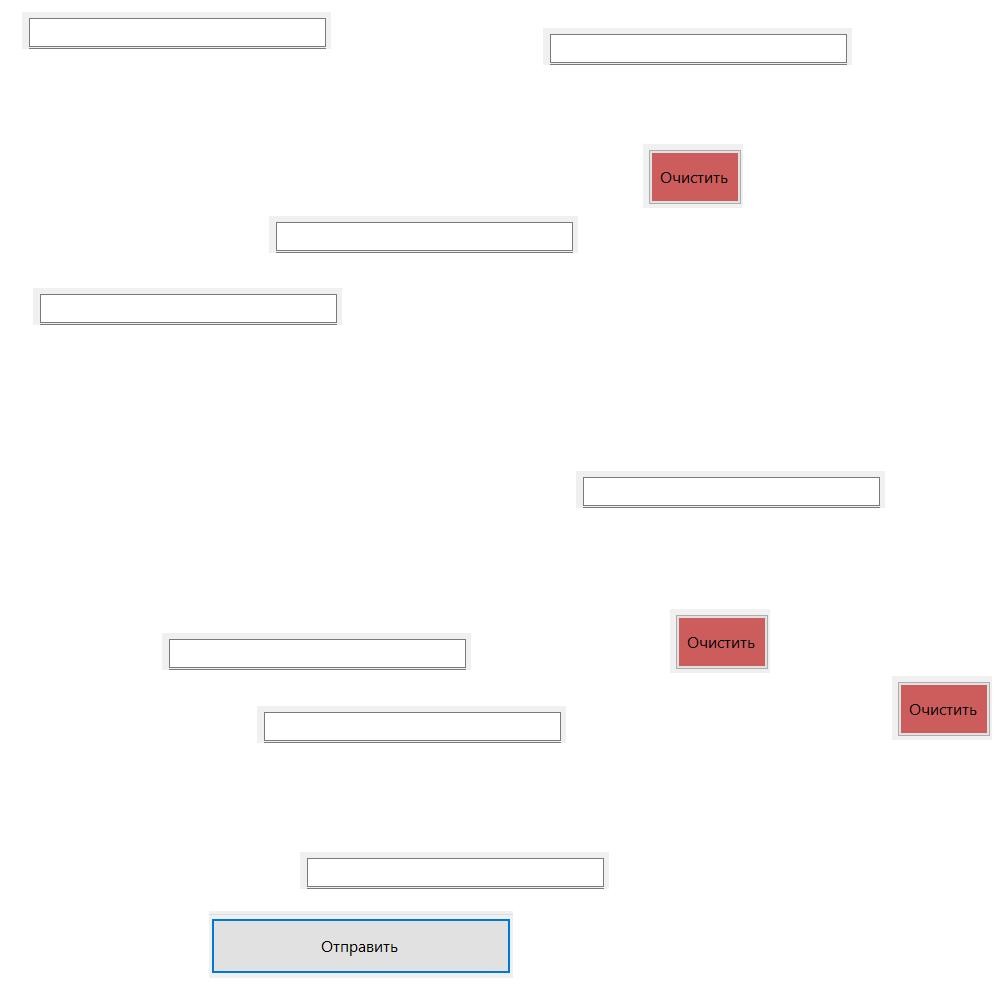Button: (209, 911, 513, 978), (643, 144, 743, 208), (670, 609, 770, 673), (892, 676, 992, 740)
EditText-: (22, 12, 331, 49), (576, 471, 885, 508), (162, 633, 471, 670), (543, 28, 852, 65), (257, 706, 566, 743), (300, 852, 609, 889), (33, 288, 342, 325), (269, 216, 578, 253)
